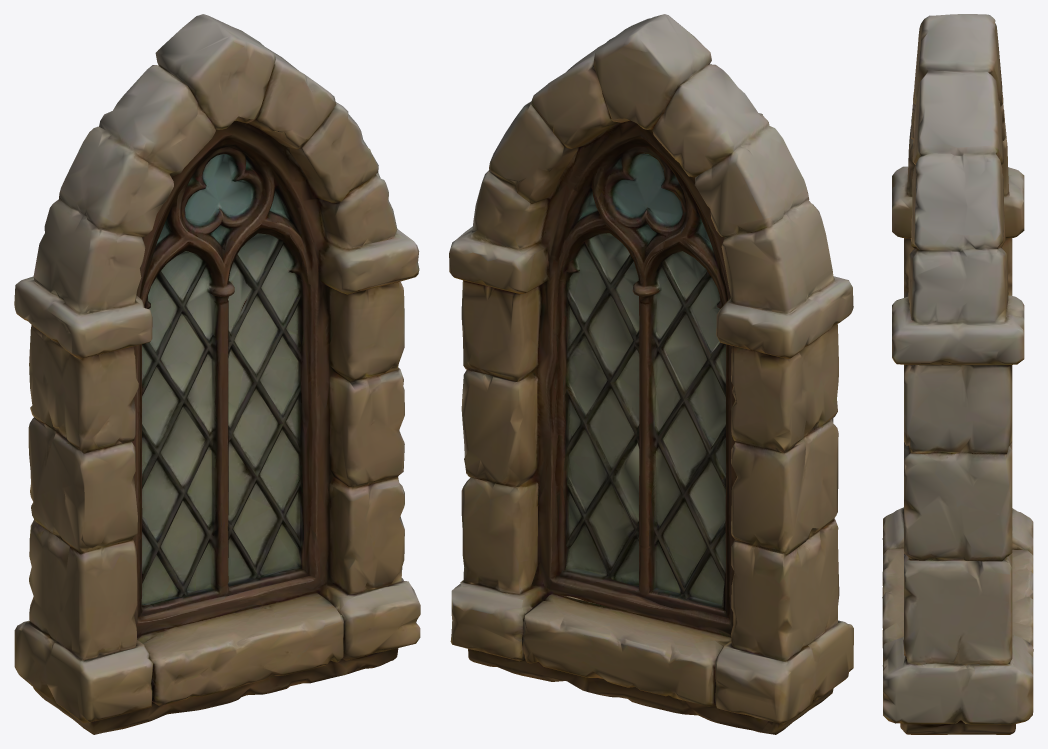
Rendered from mod_win_b.glb.
3 renders of one model, left to right at view 1: azimuth 30°, elevation 25°; view 2: azimuth 150°, elevation 25°; view 3: azimuth 270°, elevation 25°, orthographic.
Parts seen in each view (by area): view 1: tripo_node_8bd2c670-7547-4ca4-8dd3-72b6a9470dbd; view 2: tripo_node_8bd2c670-7547-4ca4-8dd3-72b6a9470dbd; view 3: tripo_node_8bd2c670-7547-4ca4-8dd3-72b6a9470dbd.
Part boxes in pixels (x1,y1,x2,y2): tripo_node_8bd2c670-7547-4ca4-8dd3-72b6a9470dbd: (14, 14, 420, 734); tripo_node_8bd2c670-7547-4ca4-8dd3-72b6a9470dbd: (449, 14, 853, 734); tripo_node_8bd2c670-7547-4ca4-8dd3-72b6a9470dbd: (882, 14, 1033, 734).
Size of the model in its own units: 0.5367 by 0.9795 by 0.2066.
1 material, 1 textured.
